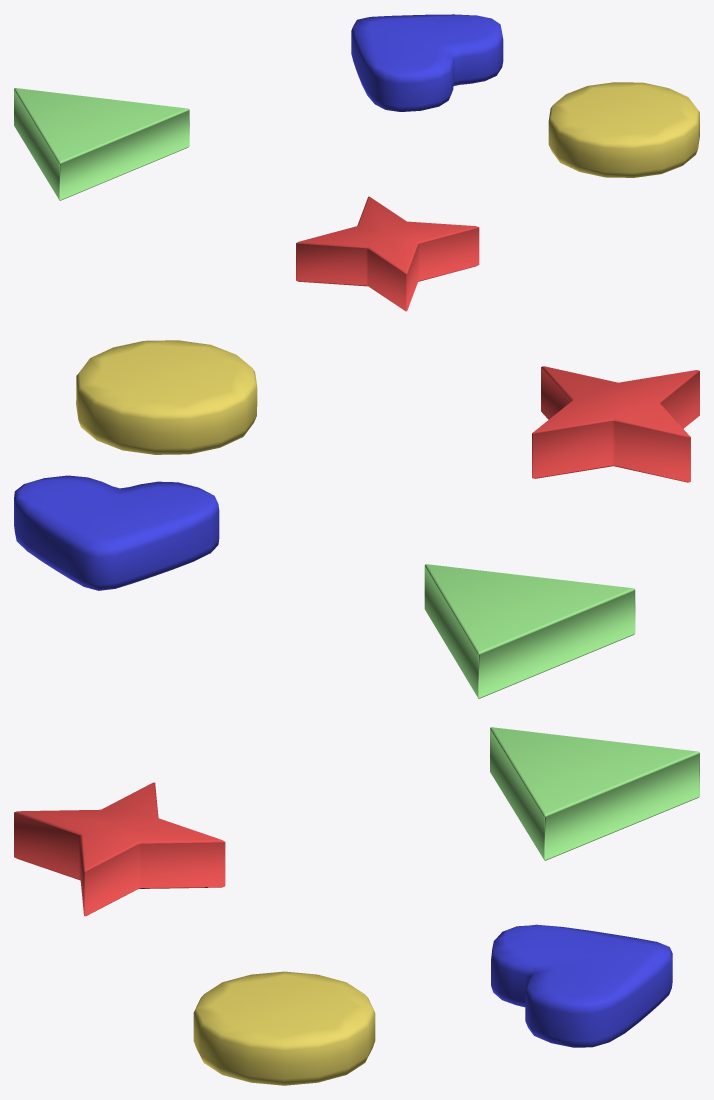
Rendered from Figuras Sueltas.fbx.
3 views of the same model, one above another, from view 1: azimuth 30°, elevation 25°; view 2: azimuth 150°, elevation 25°; view 3: azimuth 270°, elevation 25° (orthographic). The views are drawn at different scales.
Parts seen in each view (by area): view 1: Plane; view 2: Plane; view 3: Plane.
Boxes of the visible parts, x1=… form: Plane: x1=14, y1=14, x2=699, y2=311; Plane: x1=14, y1=340, x2=699, y2=698; Plane: x1=14, y1=727, x2=699, y2=1085.
Size of the model in its own units: 0.6265 by 0.5754 by 0.0456.
